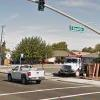Traffic light: (30, 0, 54, 18)
